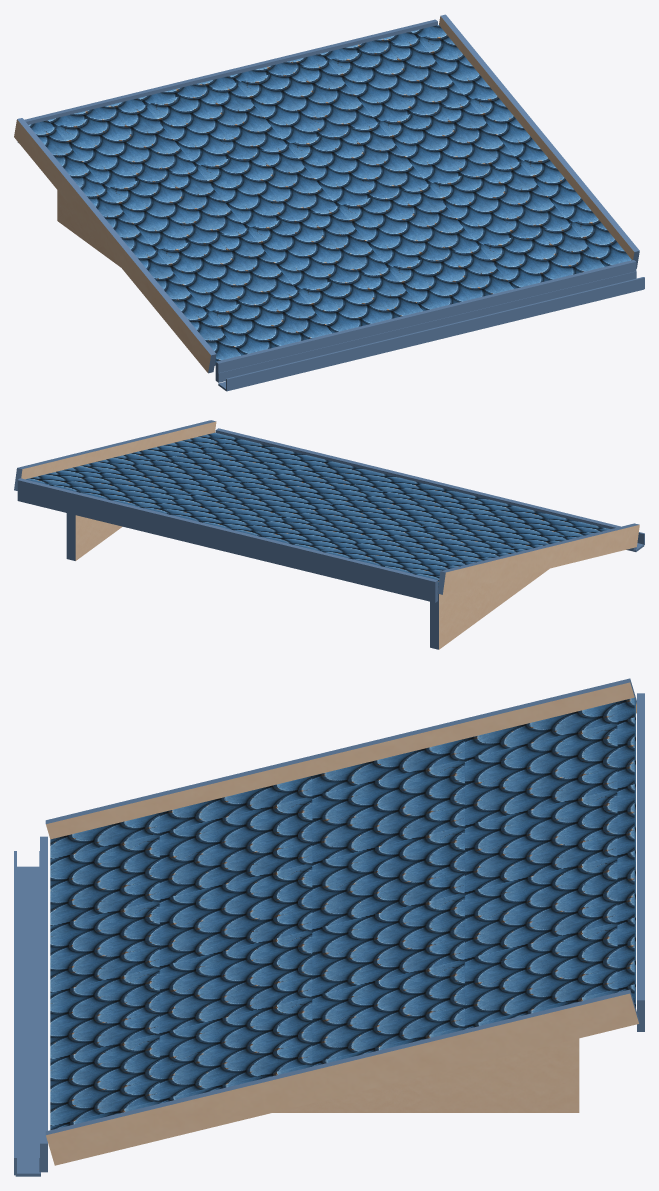
File: Roof_Shed_4x3.fbx
The picture shows the model from 3 angles, top to bottom: view 1: azimuth 30°, elevation 25°; view 2: azimuth 150°, elevation 25°; view 3: azimuth 270°, elevation 25°; orthographic projection. The views are drawn at different scales.
Parts seen in each view (by area): view 1: Roof_Shed_4x3; view 2: Roof_Shed_4x3; view 3: Roof_Shed_4x3.
Part boxes in pixels (<box>): Roof_Shed_4x3: <box>14,14,644,391</box>; Roof_Shed_4x3: <box>14,420,644,649</box>; Roof_Shed_4x3: <box>14,678,644,1176</box>.
Size of the model in its own units: 4.72 by 1.31 by 3.99.
2 materials, 2 textured.
